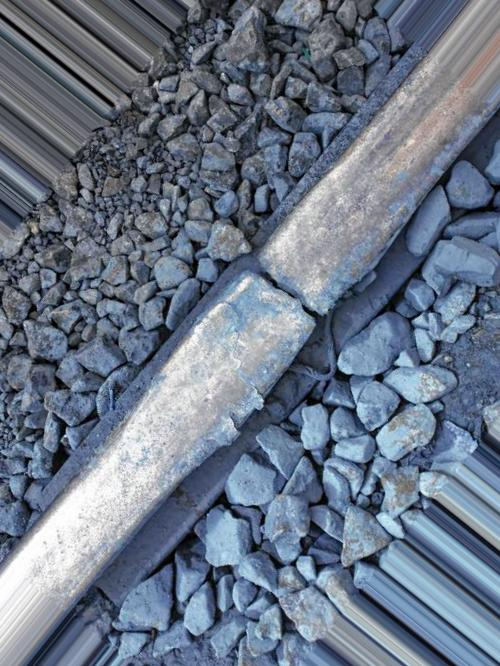tracks_fault: (205, 169, 373, 448)
